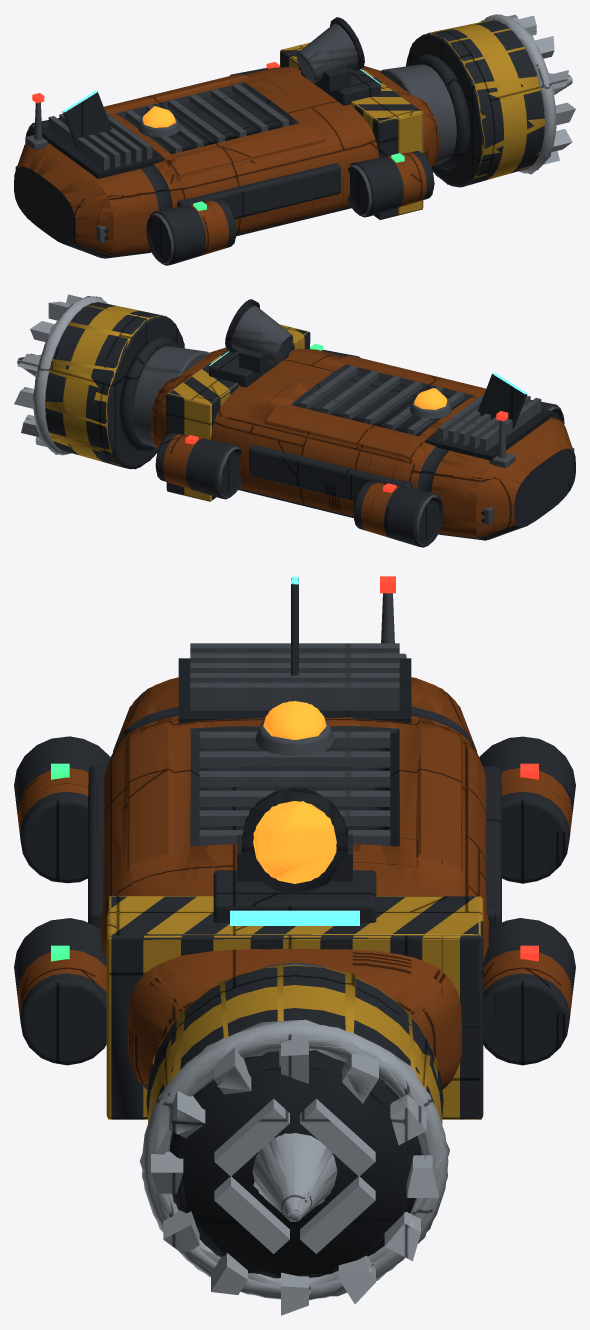
File: place_mining_drone.glb
3 renders of one model, top to bottom at view 1: azimuth 30°, elevation 25°; view 2: azimuth 150°, elevation 25°; view 3: azimuth 270°, elevation 25°, orthographic. The views are drawn at different scales.
Parts seen in each view (by area): view 1: LOD0_Hull, LOD0_Armor, LOD0_Mechanical, LOD2_Hull, LOD0_MOTION_DRONE_DRUM_Armor, LOD1_Hull, LOD1_Armor, LOD1_Mechanical, LOD0_MOTION_DRONE_DRUM_Warning, LOD0_MOTION_DRONE_DRUM_BrushedMetal, LOD2_Armor, LOD0_Warning (+10 smaller); view 2: LOD0_Armor, LOD0_Hull, LOD0_Mechanical, LOD0_MOTION_DRONE_DRUM_Armor, LOD2_Hull, LOD1_Hull, LOD1_Armor, LOD1_Mechanical, LOD0_MOTION_DRONE_DRUM_Warning, LOD2_Armor, LOD0_MOTION_DRONE_DRUM_BrushedMetal, LOD0_Warning (+10 smaller); view 3: LOD0_Armor, LOD0_Hull, LOD0_MOTION_DRONE_DRUM_BrushedMetal, LOD0_Mechanical, LOD2_MOTION_DRONE_DRUM_MechanicalDark, LOD1_MOTION_DRONE_DRUM_BrushedMetal, LOD2_Hull, LOD1_Mechanical, LOD1_Hull, LOD0_Warning, LOD0_MOTION_DRONE_DRUM_Armor, LOD1_Armor (+13 smaller).
Part boxes in pixels (box(x1,y1,x2,y2)): LOD0_Hull: box(16, 66, 438, 255); LOD0_Armor: box(14, 50, 470, 264); LOD0_Mechanical: box(15, 24, 456, 263); LOD2_Hull: box(17, 66, 438, 253); LOD0_MOTION_DRONE_DRUM_Armor: box(406, 20, 544, 187); LOD1_Hull: box(37, 67, 429, 248); LOD1_Armor: box(14, 50, 470, 265); LOD1_Mechanical: box(32, 24, 411, 263); LOD0_MOTION_DRONE_DRUM_Warning: box(452, 24, 527, 179); LOD0_MOTION_DRONE_DRUM_BrushedMetal: box(485, 14, 575, 173); LOD2_Armor: box(14, 50, 470, 265); LOD0_Warning: box(280, 43, 423, 215); LOD0_Armor: box(119, 328, 575, 547); LOD0_Hull: box(151, 347, 573, 537); LOD0_Mechanical: box(133, 306, 574, 545); LOD0_MOTION_DRONE_DRUM_Armor: box(45, 302, 183, 468); LOD2_Hull: box(151, 347, 571, 538); LOD1_Hull: box(160, 349, 570, 536); LOD1_Armor: box(119, 332, 575, 547); LOD1_Mechanical: box(178, 306, 557, 545); LOD0_MOTION_DRONE_DRUM_Warning: box(63, 306, 139, 461); LOD2_Armor: box(119, 332, 575, 547); LOD0_MOTION_DRONE_DRUM_BrushedMetal: box(14, 294, 107, 455); LOD0_Warning: box(174, 324, 304, 501); LOD0_Armor: box(14, 706, 575, 1119); LOD0_Hull: box(17, 677, 572, 1087); LOD0_MOTION_DRONE_DRUM_BrushedMetal: box(142, 1022, 448, 1314); LOD0_Mechanical: box(190, 593, 406, 967); LOD2_MOTION_DRONE_DRUM_MechanicalDark: box(172, 1051, 416, 1273); LOD1_MOTION_DRONE_DRUM_BrushedMetal: box(142, 1022, 447, 1315); LOD2_Hull: box(102, 677, 487, 1085); LOD1_Mechanical: box(190, 643, 399, 968); LOD1_Hull: box(101, 718, 488, 1082); LOD0_Warning: box(106, 896, 483, 1119); LOD0_MOTION_DRONE_DRUM_Armor: box(146, 966, 443, 1117); LOD1_Armor: box(17, 706, 572, 1119).
Size of what is drawn, in the model's own units: 4.92 by 1.69 by 2.42.
Materials: 11 (6 with a texture image).
